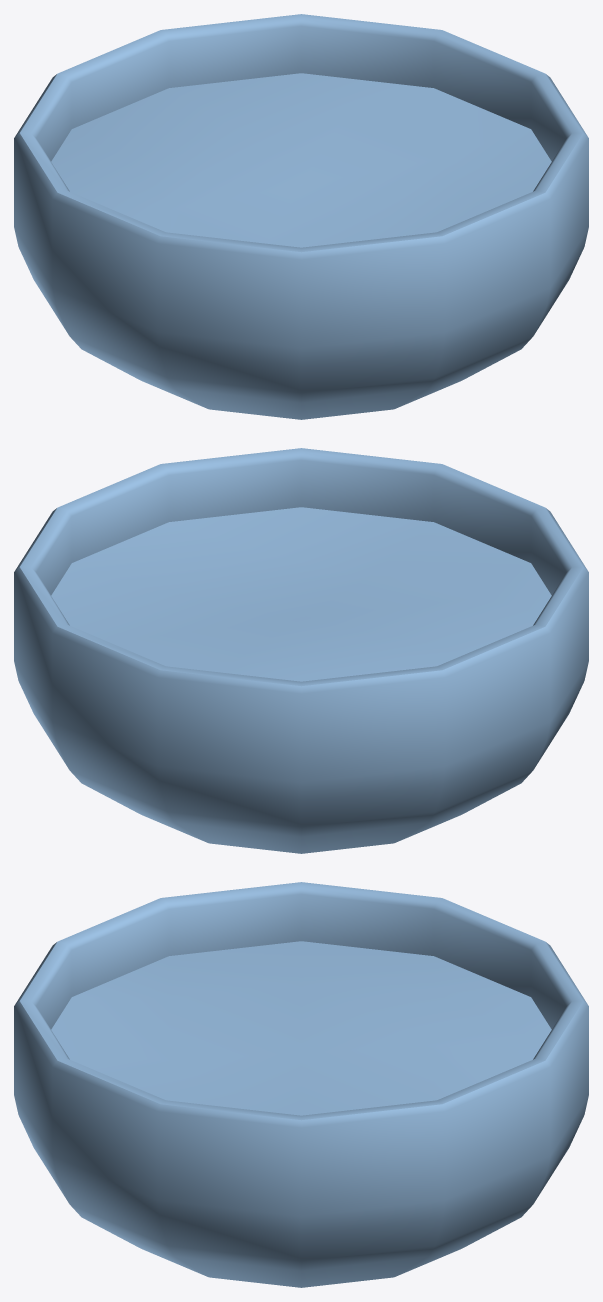
The model's file is PSKbowl.FBX.
3 renders of one model, top to bottom at view 1: azimuth 30°, elevation 25°; view 2: azimuth 150°, elevation 25°; view 3: azimuth 270°, elevation 25°, orthographic.
Visible parts, largest first — view 1: PSKbowl; view 2: PSKbowl; view 3: PSKbowl.
Part boxes in pixels (x1,y1,x2,y2): PSKbowl: (14,14,588,419); PSKbowl: (14,448,588,853); PSKbowl: (14,882,588,1287).
Bounding box in the file's own units: 0.5 × 0.2 × 0.5.
